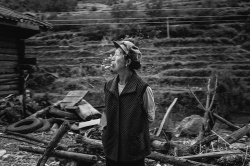male: (103, 37, 144, 77)
